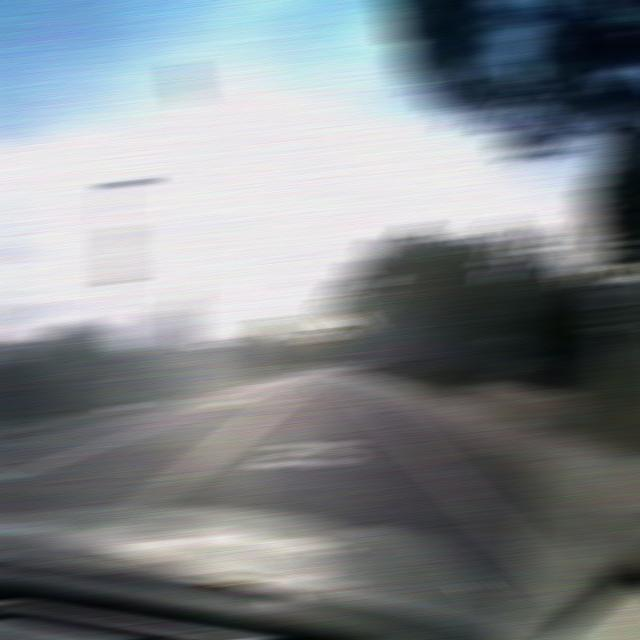speedLimit25: (584, 276, 632, 328)
